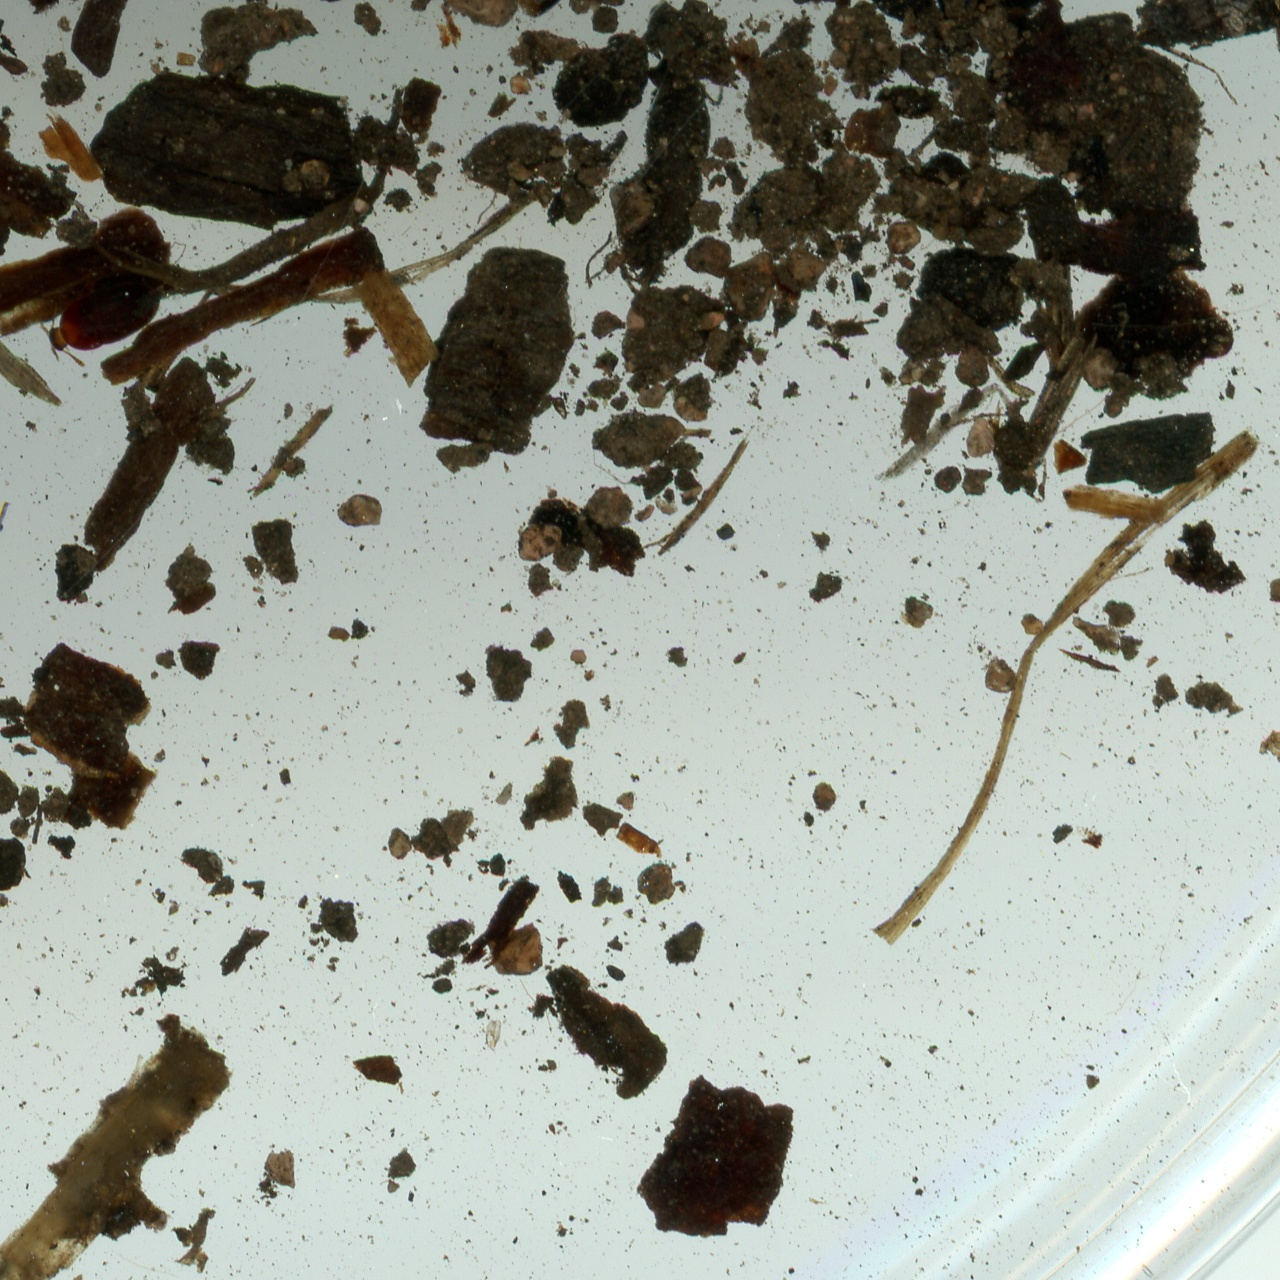arthropod: (26, 237, 176, 390), (1272, 307, 1280, 354)
